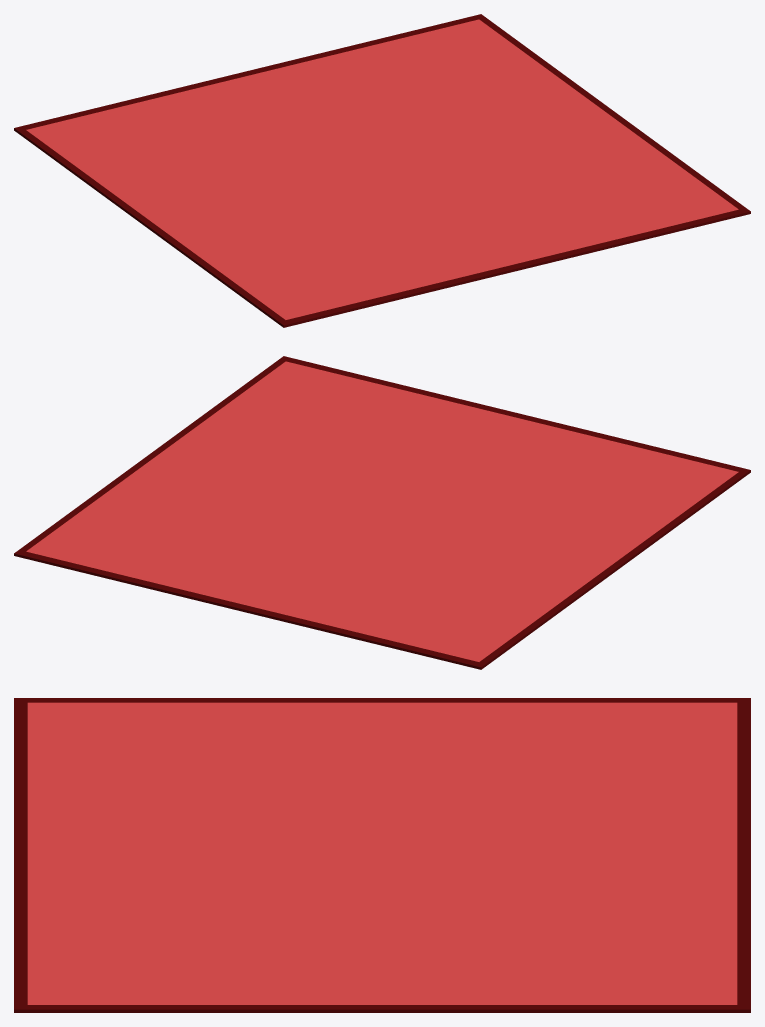
The model's file is Casilla 20.fbx.
3 renders of one model, top to bottom at view 1: azimuth 30°, elevation 25°; view 2: azimuth 150°, elevation 25°; view 3: azimuth 270°, elevation 25°, orthographic. The views are drawn at different scales.
Visible parts, largest first — view 1: pCube3; view 2: pCube3; view 3: pCube3.
Part boxes in pixels (x1,y1,x2,y2): pCube3: [14, 14, 750, 327]; pCube3: [14, 356, 750, 669]; pCube3: [14, 698, 750, 1012].
Size of the model in its own units: 200 by 1 by 200.
